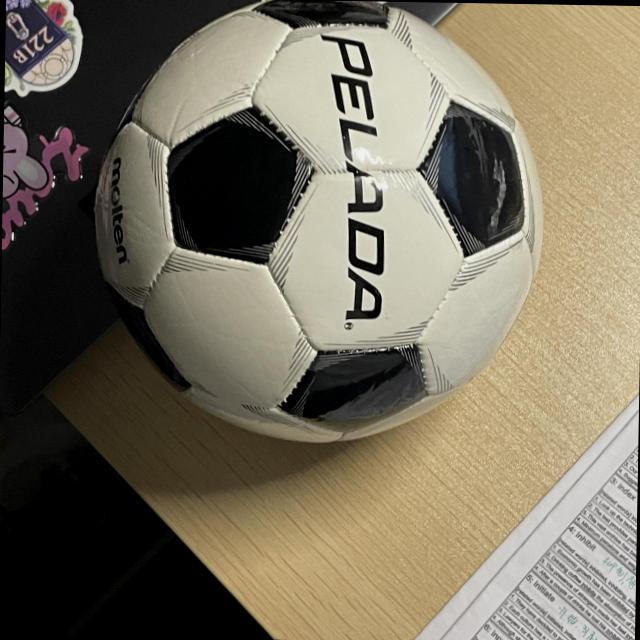Soccer Ball: (90, 0, 545, 449)
